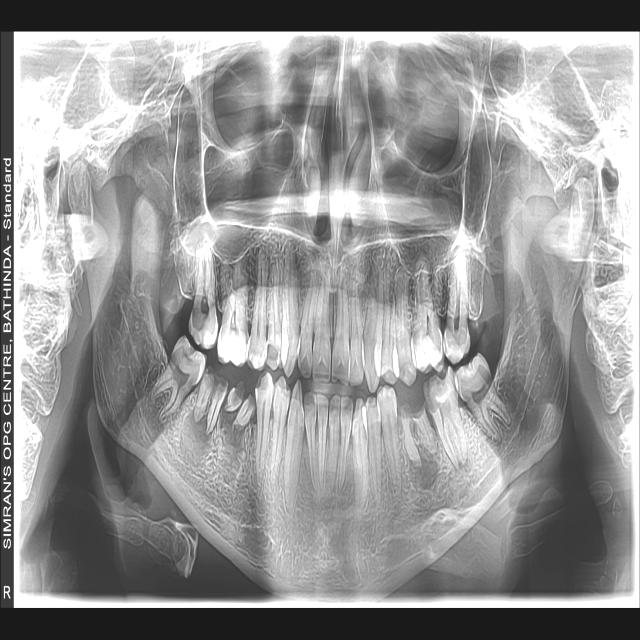Root Piece: (194, 365, 219, 423), (206, 377, 229, 433), (400, 406, 421, 467), (412, 406, 438, 455), (232, 394, 256, 428), (225, 381, 244, 413)
